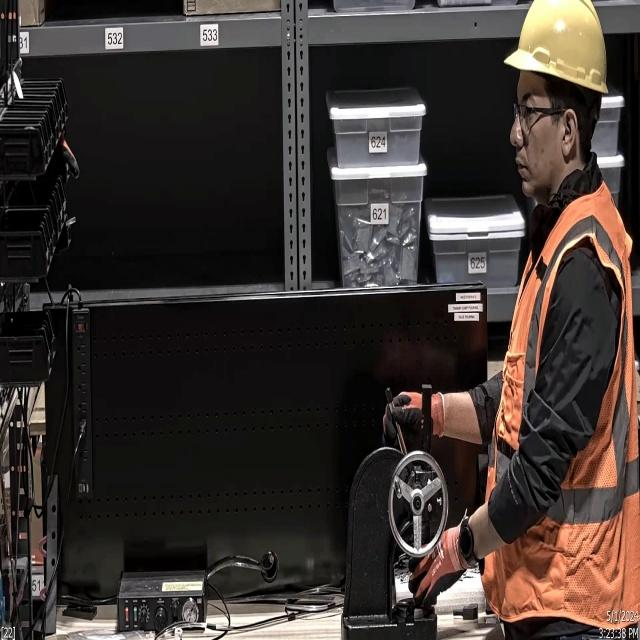gloves: (403, 522, 468, 614)
